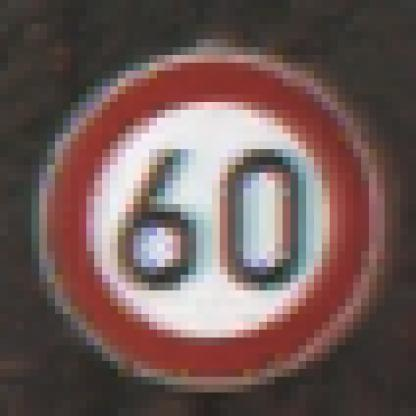Speed Limit 60: (48, 61, 368, 379)
